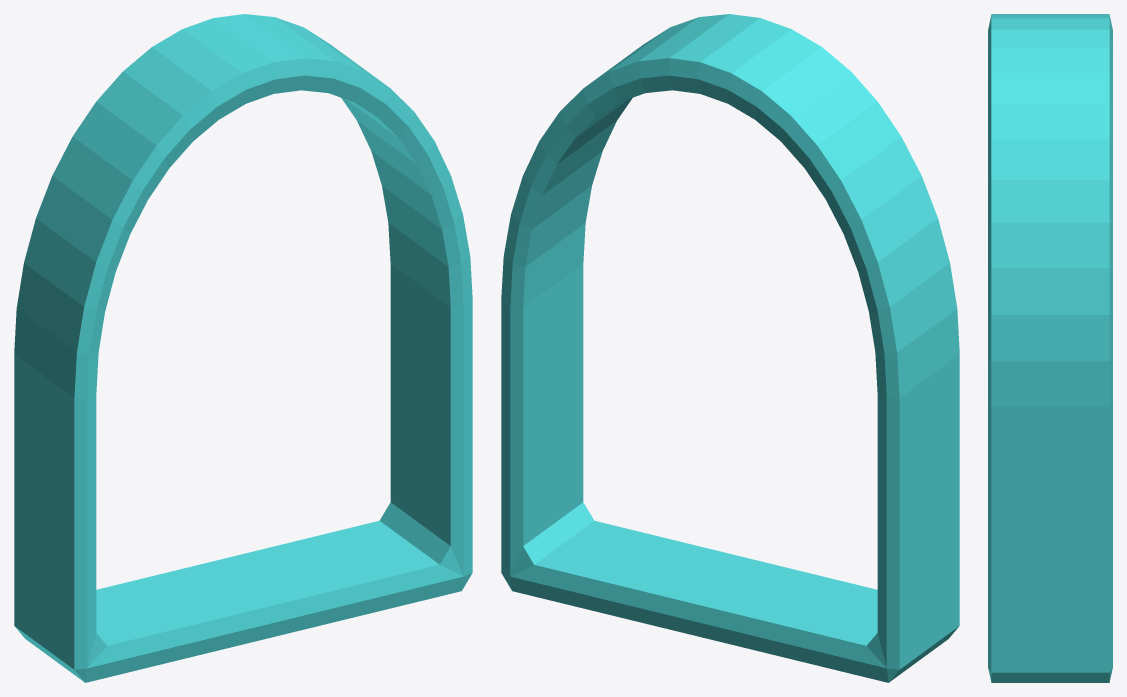
The model's file is Gate_Beta.fbx.
3 renders of one model, left to right at view 1: azimuth 30°, elevation 25°; view 2: azimuth 150°, elevation 25°; view 3: azimuth 270°, elevation 25°, orthographic. The views are drawn at different scales.
Parts seen in each view (by area): view 1: Cube.026; view 2: Cube.026; view 3: Cube.026.
Part boxes in pixels (x1,y1,x2,y2): Cube.026: (14, 14, 472, 682); Cube.026: (501, 14, 959, 682); Cube.026: (988, 14, 1112, 682).
Size of the model in its own units: 455 by 628 by 126.
